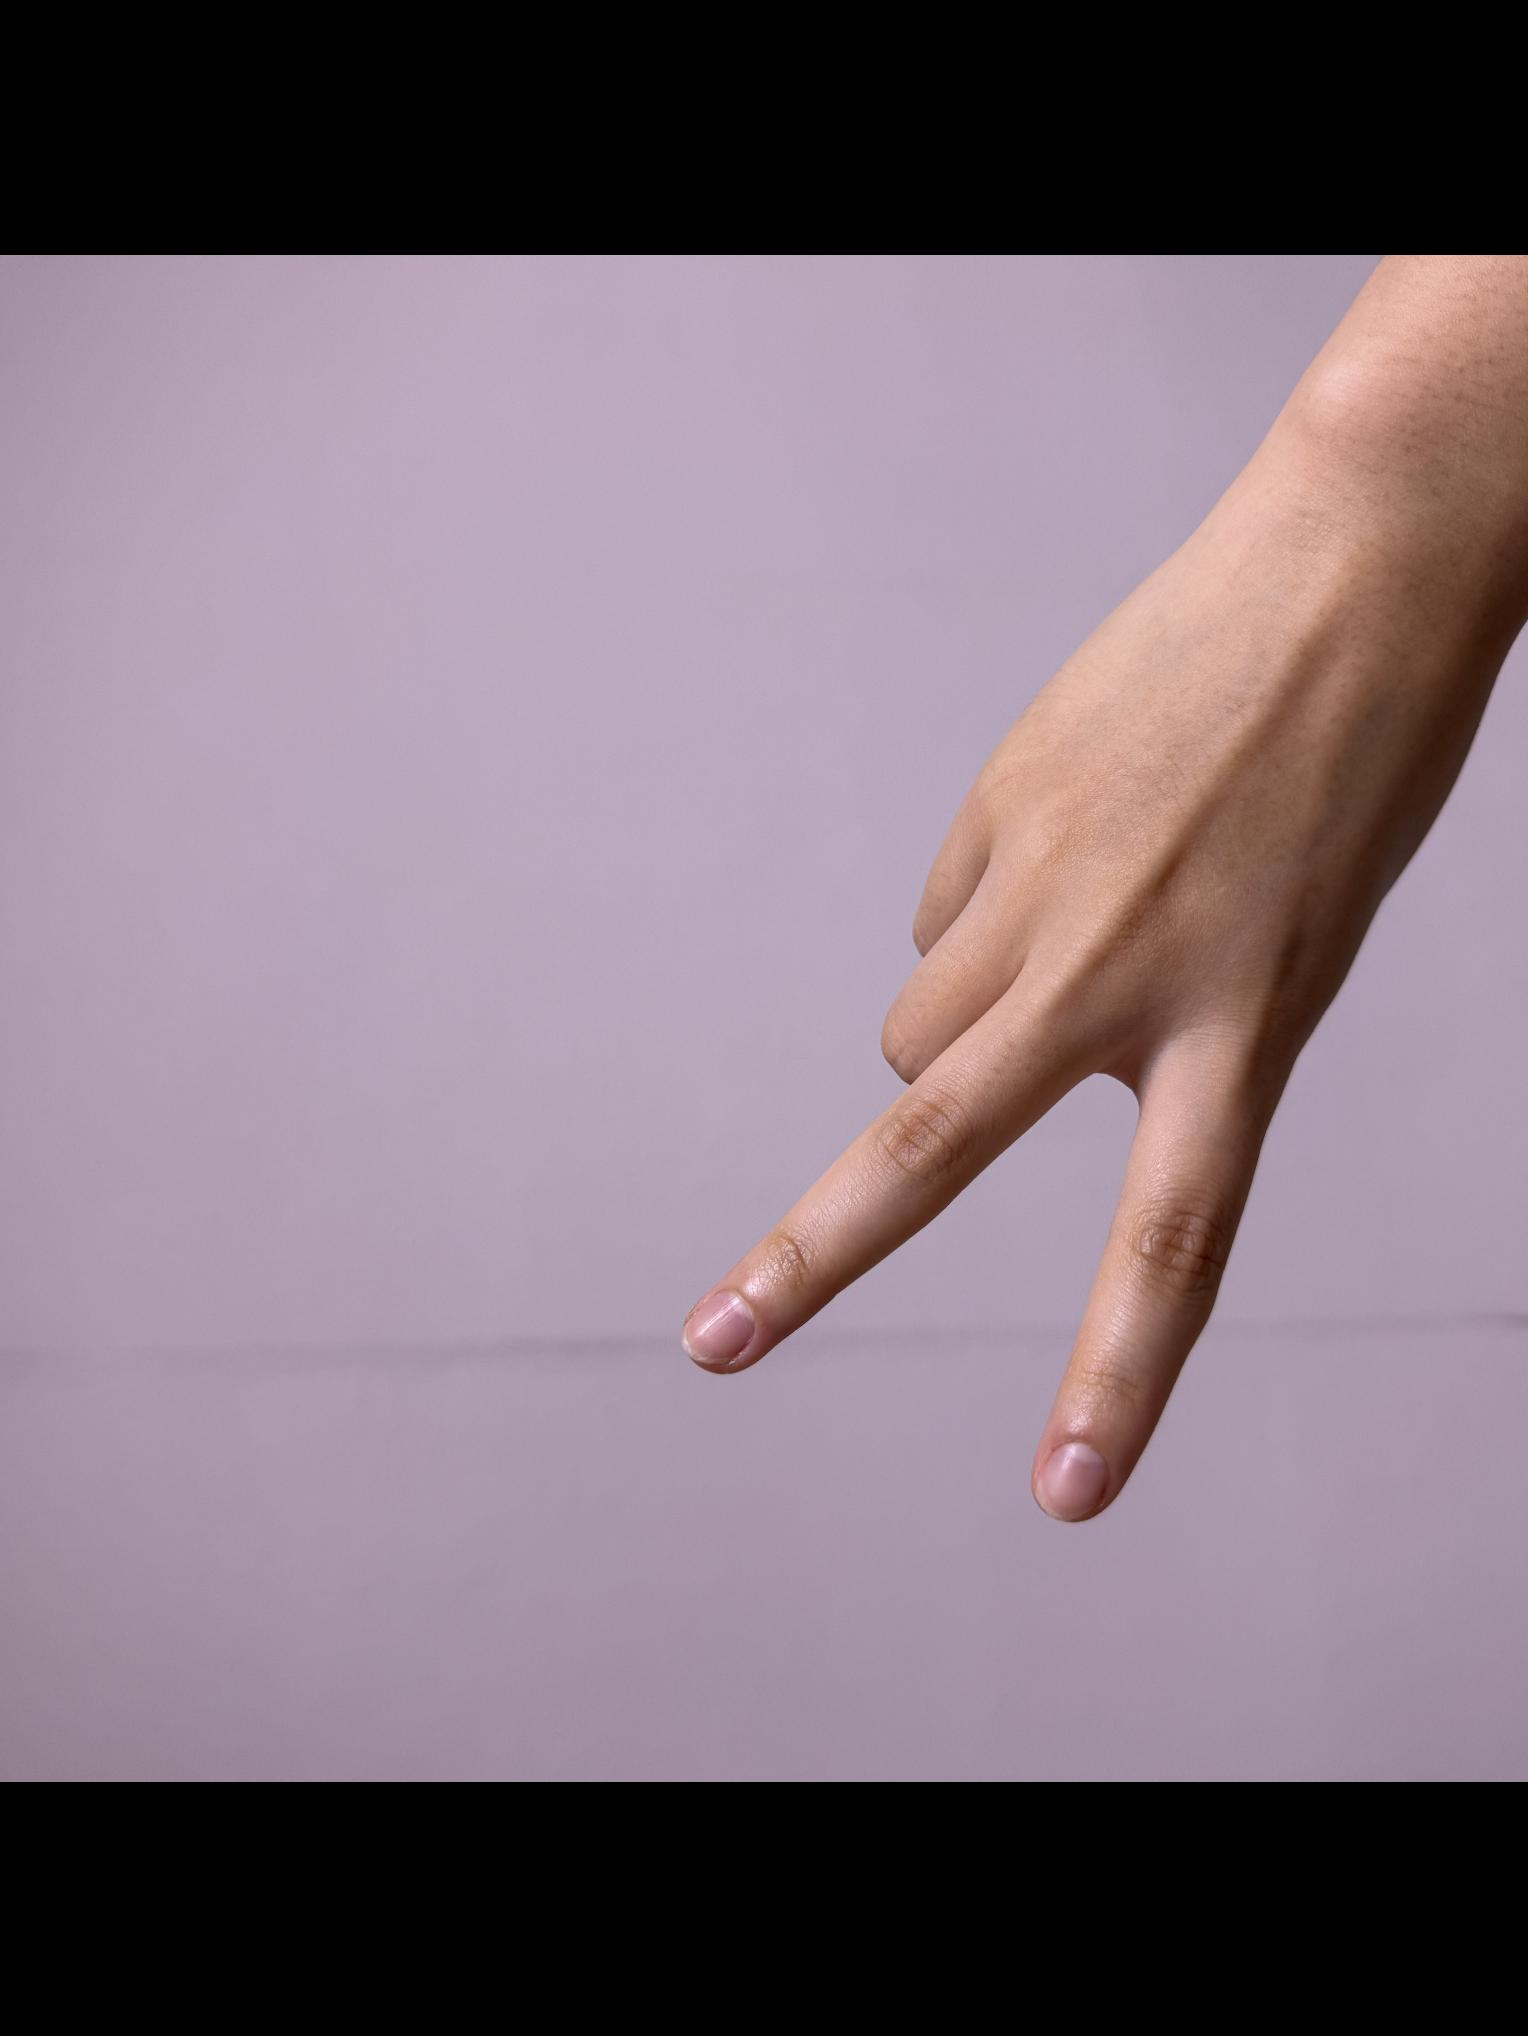v: (666, 457, 1528, 1547)
